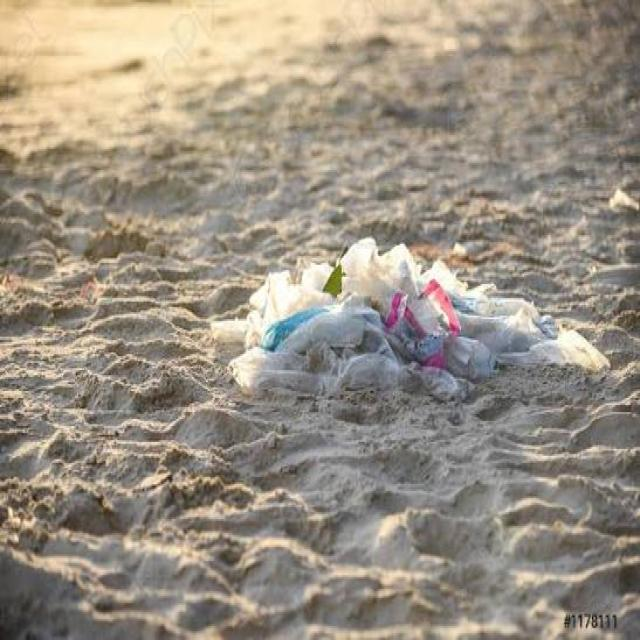styrofoam: (214, 231, 581, 450)
